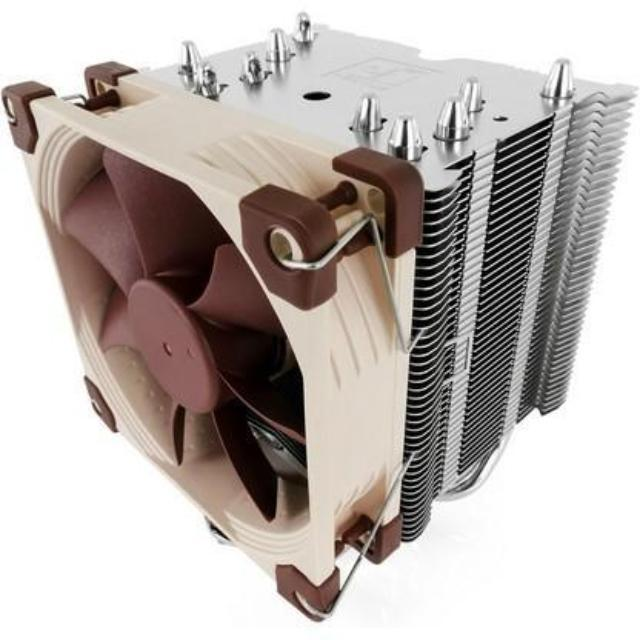CPU_Fan: (0, 19, 637, 624)
